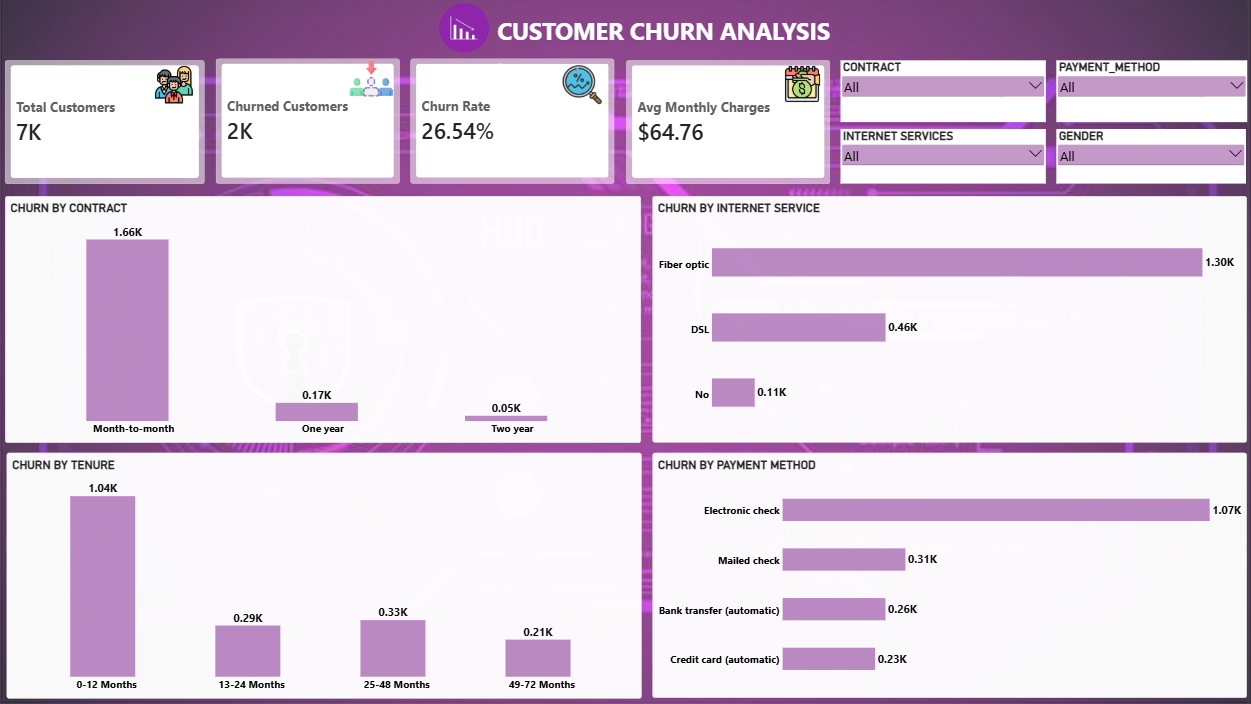

This screenshot's page, from the dashboard's own definition file:
{"tool":"powerbi","page":{"name":"Page 1","canvas":[3840,2160],"ordinal":0},"visuals":[{"type":"cardVisual","fields":{"Data":["customer_churn.Total Customers"]},"box":[17.6,188.8,610.2,377.6],"z":0},{"type":"cardVisual","fields":{"Data":["customer_churn.Churned Customers"]},"box":[667.3,184.4,562,382],"z":1000},{"type":"cardVisual","fields":{"Data":["customer_churn.Churn Rate"]},"box":[1260,184.4,623.4,382],"z":2000},{"type":"cardVisual","fields":{"Data":["customer_churn.Avg Monthly Charges"]},"box":[1918.5,188.8,623.4,377.6],"z":3000},{"type":"clusteredColumnChart","title":"CHURN BY CONTRACT","fields":{"Category":["customer_churn.contract"],"Y":["customer_churn.Churned Customers"]},"box":[22,605.9,1944.9,755.1],"z":4000},{"type":"barChart","title":"CHURN BY INTERNET SERVICE","fields":{"Category":["customer_churn.internet_service"],"Y":["customer_churn.Churned Customers"]},"box":[1998,606,1818,754],"z":5000},{"type":"textbox","box":[17.6,0,3819.5,188.8],"z":6000},{"type":"clusteredColumnChart","title":"CHURN BY TENURE","fields":{"Category":["customer_churn.tenure_group"],"Y":["customer_churn.Churned Customers","select"]},"box":[22,1391.7,1944.9,724.4],"z":7000},{"type":"clusteredBarChart","title":"CHURN BY PAYMENT METHOD","fields":{"Category":["customer_churn.payment_method"],"Y":["customer_churn.Churned Customers"]},"box":[1998,1392,1818,724],"z":8000},{"type":"textbox","box":[1523.4,48.3,1953.7,193.2],"z":9000},{"type":"slicer","fields":{"Values":["customer_churn.contract"]},"box":[2577.1,188.8,627.8,188.8],"z":10000},{"type":"slicer","fields":{"Values":["customer_churn.internet_service"]},"box":[2577.1,399.5,627.8,166.8],"z":11000},{"type":"slicer","fields":{"Values":["customer_churn.payment_method"]},"box":[3236.7,188.3,583.9,188.8],"z":12000},{"type":"slicer","fields":{"Values":["customer_churn.gender"]},"box":[3236.7,400,579.5,166.8],"z":13000},{"type":"image","box":[1274.4,17.3,298.1,151.2],"z":14000},{"type":"image","box":[420.9,205.5,232.7,118.5],"z":15000},{"type":"image","box":[1031.8,181.8,220,131.8],"z":16000},{"type":"image","box":[1703.6,205.5,160,119.1],"z":17000},{"type":"image","box":[2344.5,205.5,232.7,114.1],"z":18000}]}

Visuals, with their boxes in screenshot pixels (x1, y1, x2, y2), scaled from the page's 3840x2160 canvas onto the 1251x704 screenshot:
cardVisual - customer_churn.Total Customers: <region>6, 62, 205, 185</region>
cardVisual - customer_churn.Churned Customers: <region>217, 60, 400, 185</region>
cardVisual - customer_churn.Churn Rate: <region>410, 60, 614, 185</region>
cardVisual - customer_churn.Avg Monthly Charges: <region>625, 62, 828, 185</region>
"CHURN BY CONTRACT" clusteredColumnChart: <region>7, 197, 641, 444</region>
"CHURN BY INTERNET SERVICE" barChart: <region>651, 198, 1243, 443</region>
textbox: <region>6, 0, 1250, 62</region>
"CHURN BY TENURE" clusteredColumnChart: <region>7, 454, 641, 690</region>
"CHURN BY PAYMENT METHOD" clusteredBarChart: <region>651, 454, 1243, 690</region>
textbox: <region>496, 16, 1133, 79</region>
slicer - customer_churn.contract: <region>840, 62, 1044, 123</region>
slicer - customer_churn.internet_service: <region>840, 130, 1044, 185</region>
slicer - customer_churn.payment_method: <region>1054, 61, 1245, 123</region>
slicer - customer_churn.gender: <region>1054, 130, 1243, 185</region>
image: <region>415, 6, 512, 55</region>
image: <region>137, 67, 213, 106</region>
image: <region>336, 59, 408, 102</region>
image: <region>555, 67, 607, 106</region>
image: <region>764, 67, 840, 104</region>
